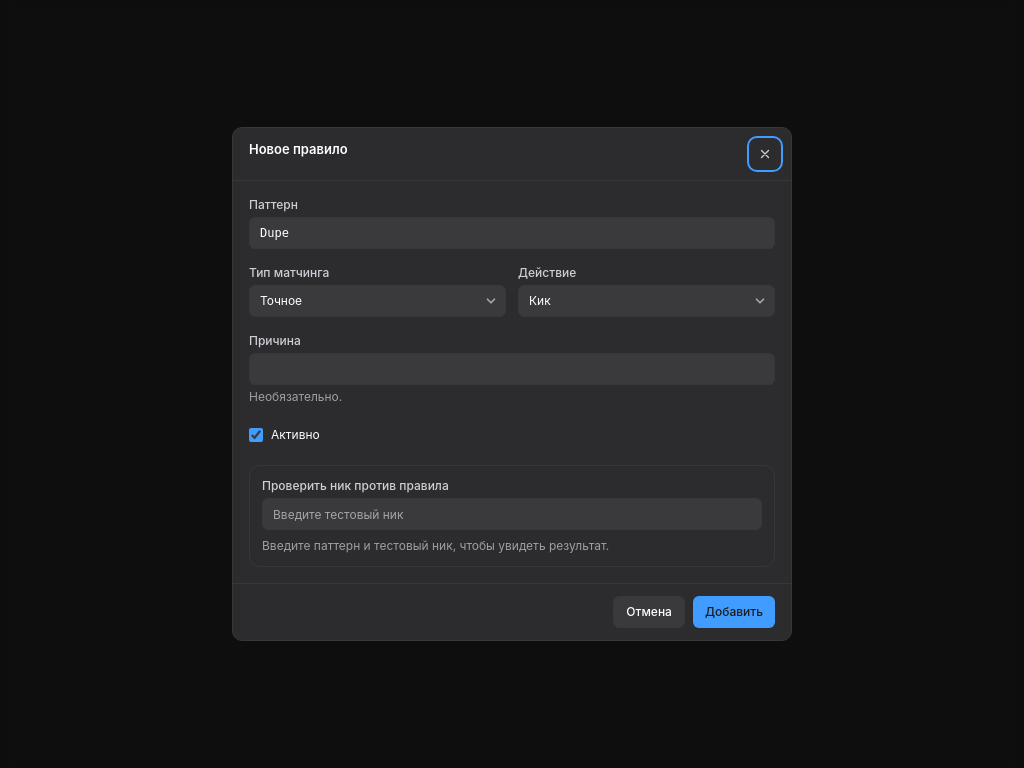
Test: BannedNameRuleModal › shows the server error detail on a 409/422 response
What coordinates should you click on to do the following:
click the button "Добавить"
I would click on:
 (734, 612)
Its box is [693,596,775,628].
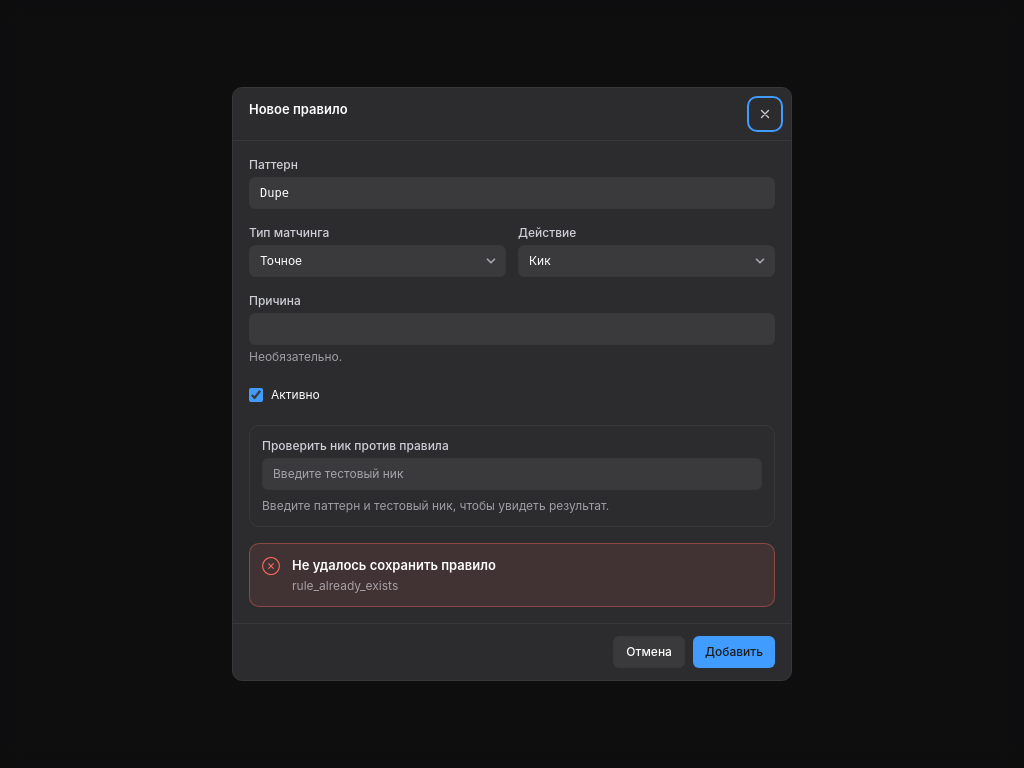
Result: the text "rule_already_exists" is shown at [292,578,398,593]
